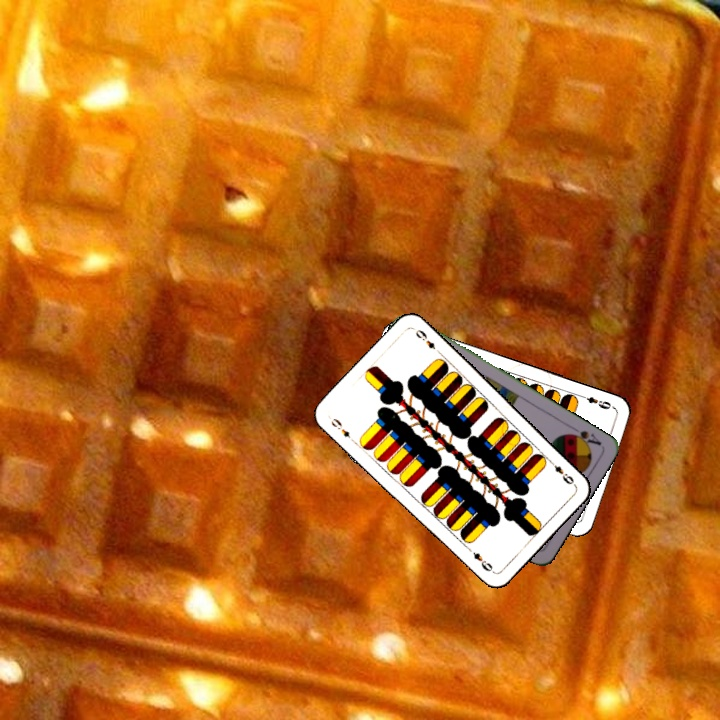E9: (545, 457, 578, 488), (327, 414, 358, 446), (576, 391, 615, 412)
SA: (563, 422, 604, 451)
